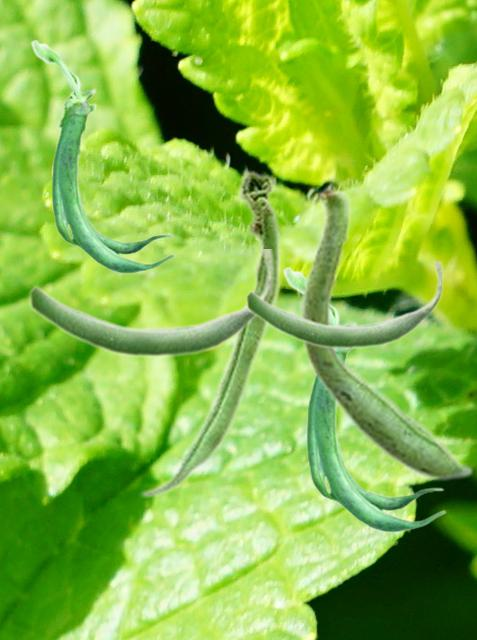french_bean: (299, 183, 473, 481), (139, 168, 280, 498), (282, 266, 445, 532), (30, 39, 174, 273), (28, 249, 274, 358), (245, 261, 443, 349)
